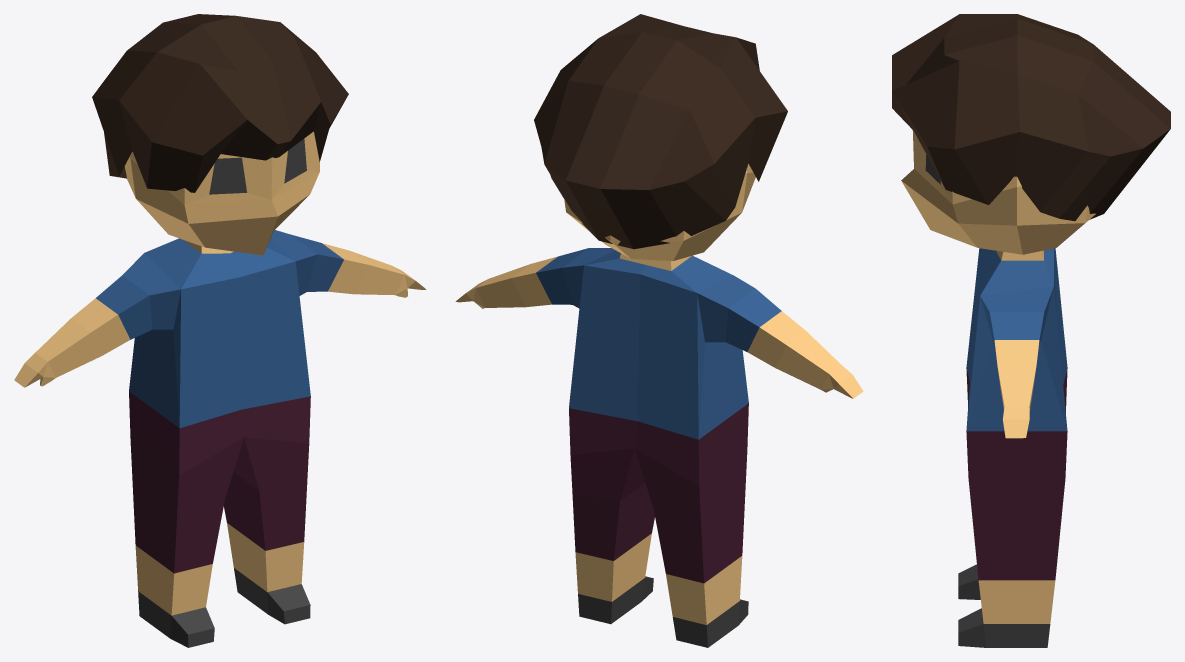
File: person2.fbx
The picture shows the model from 3 angles, left to right: view 1: azimuth 30°, elevation 25°; view 2: azimuth 150°, elevation 25°; view 3: azimuth 270°, elevation 25°; orthographic projection.
Parts seen in each view (by area): view 1: corpo, cabeca; view 2: corpo, cabeca; view 3: corpo, cabeca.
Boxes of the visible parts, box(x1,y1,x2,y2) form: corpo: box(14, 131, 426, 647); cabeca: box(92, 14, 348, 192); corpo: box(455, 163, 863, 647); cabeca: box(534, 14, 787, 249); corpo: box(901, 130, 1095, 647); cabeca: box(892, 14, 1170, 221).
Bounding box in the file's own units: 120 × 168 × 72.27.
